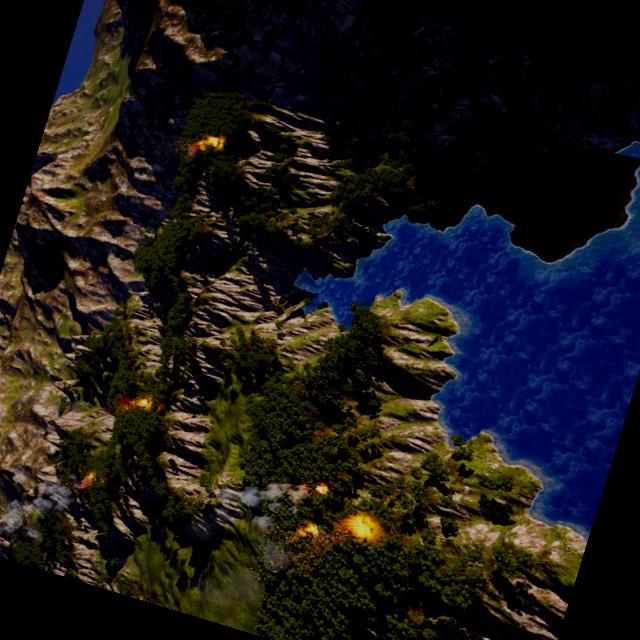fire: (342, 510, 379, 541), (298, 518, 320, 540), (313, 480, 330, 495), (204, 132, 220, 146), (137, 393, 150, 408), (88, 471, 96, 480)
smoke: (164, 450, 316, 620), (0, 457, 91, 551), (182, 134, 209, 161)
